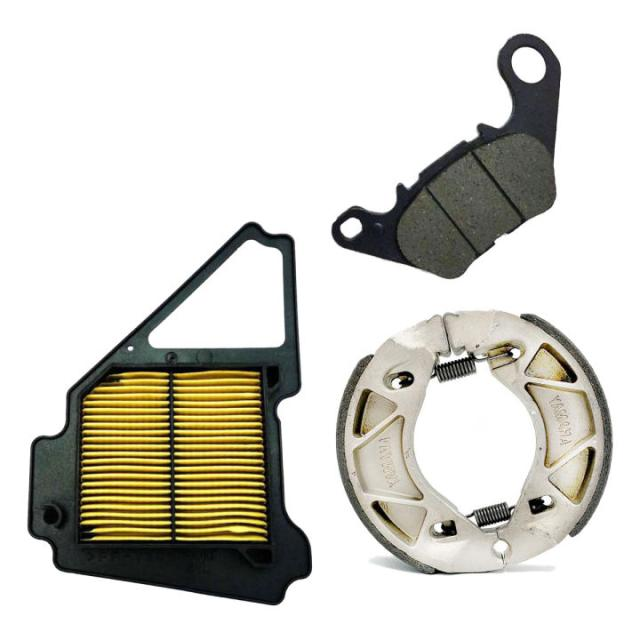air_filter: (26, 222, 306, 608)
brake_pad: (330, 306, 612, 578), (323, 27, 568, 280)
